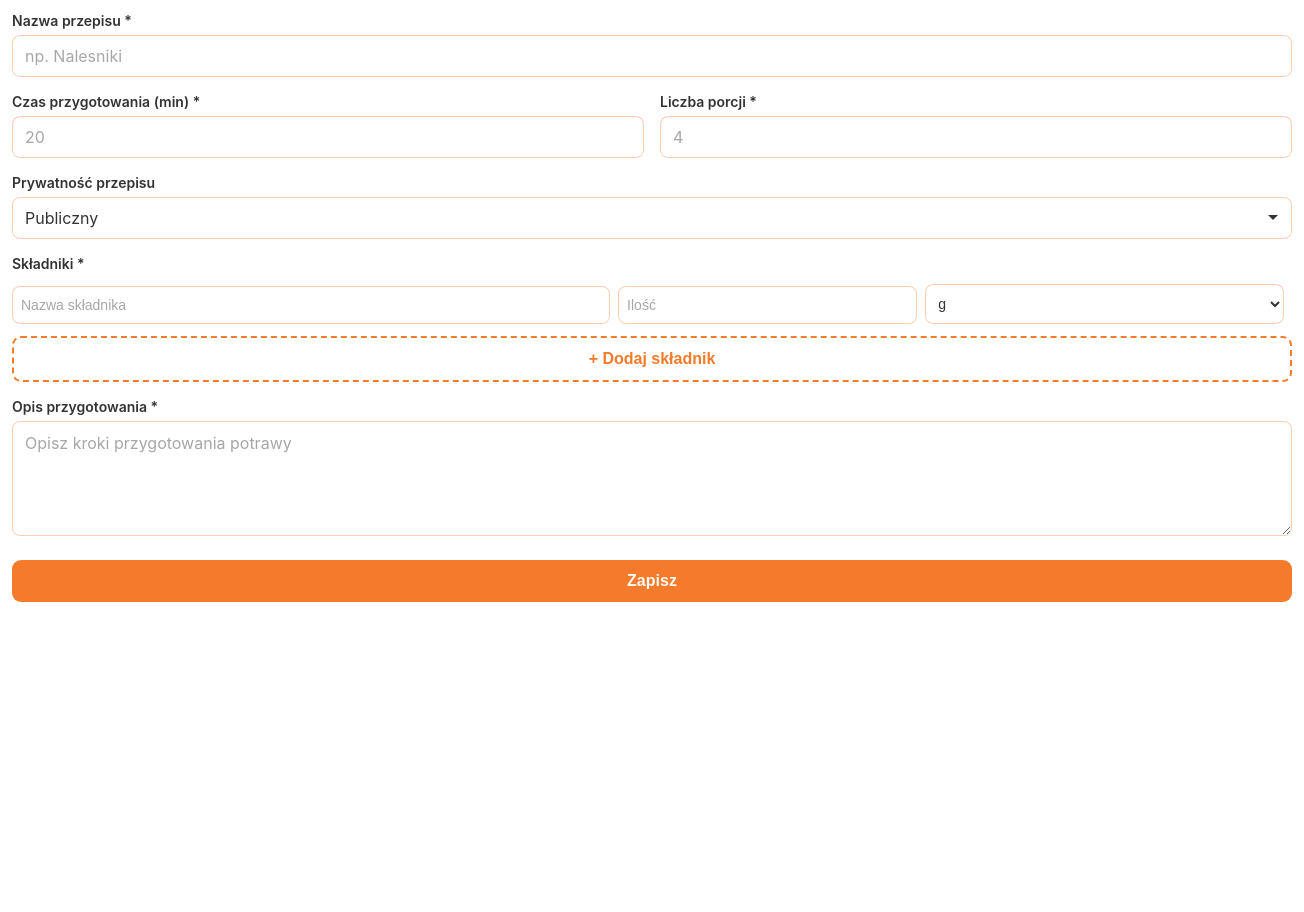
Test: RecipeForm › shows duplicate ingredient error when two ingredients share the same name
The width and height of the screenshot is (1304, 912).
Type "Zupa" into the field labelled "Nazwa przepisu *". click: (652, 56)
box: [12,35,1292,77]
Type "Opis przygotowania." into the text box labelled "Opis przygotowania *". click: (652, 478)
box: [12,421,1292,536]
Type "30" into the number field labelled "Czas przygotowania (min) *". click: (328, 137)
box: [12,116,644,158]
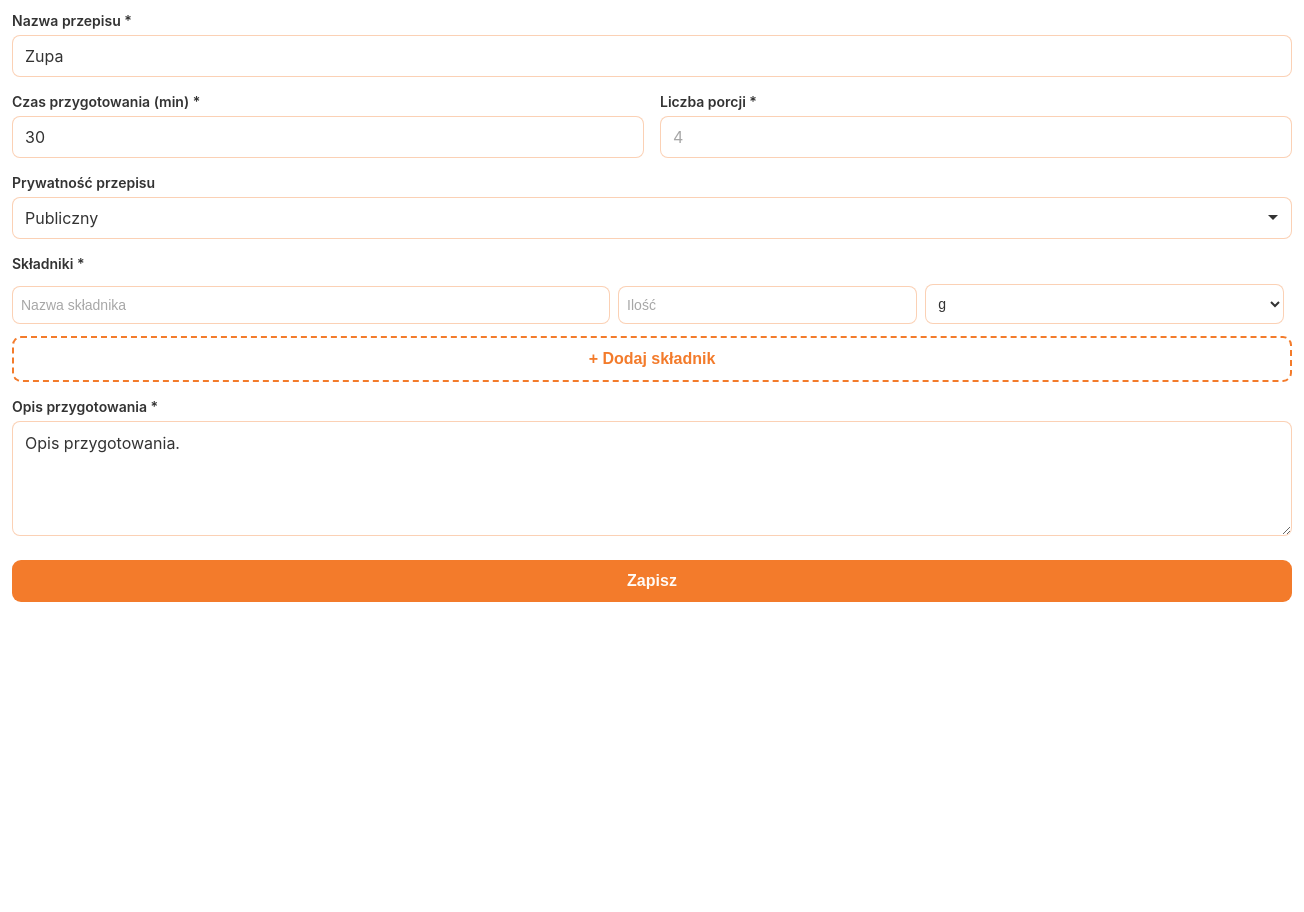
Type "2" into the number field labelled "Liczba porcji *". click: (976, 137)
box: [660,116,1292,158]
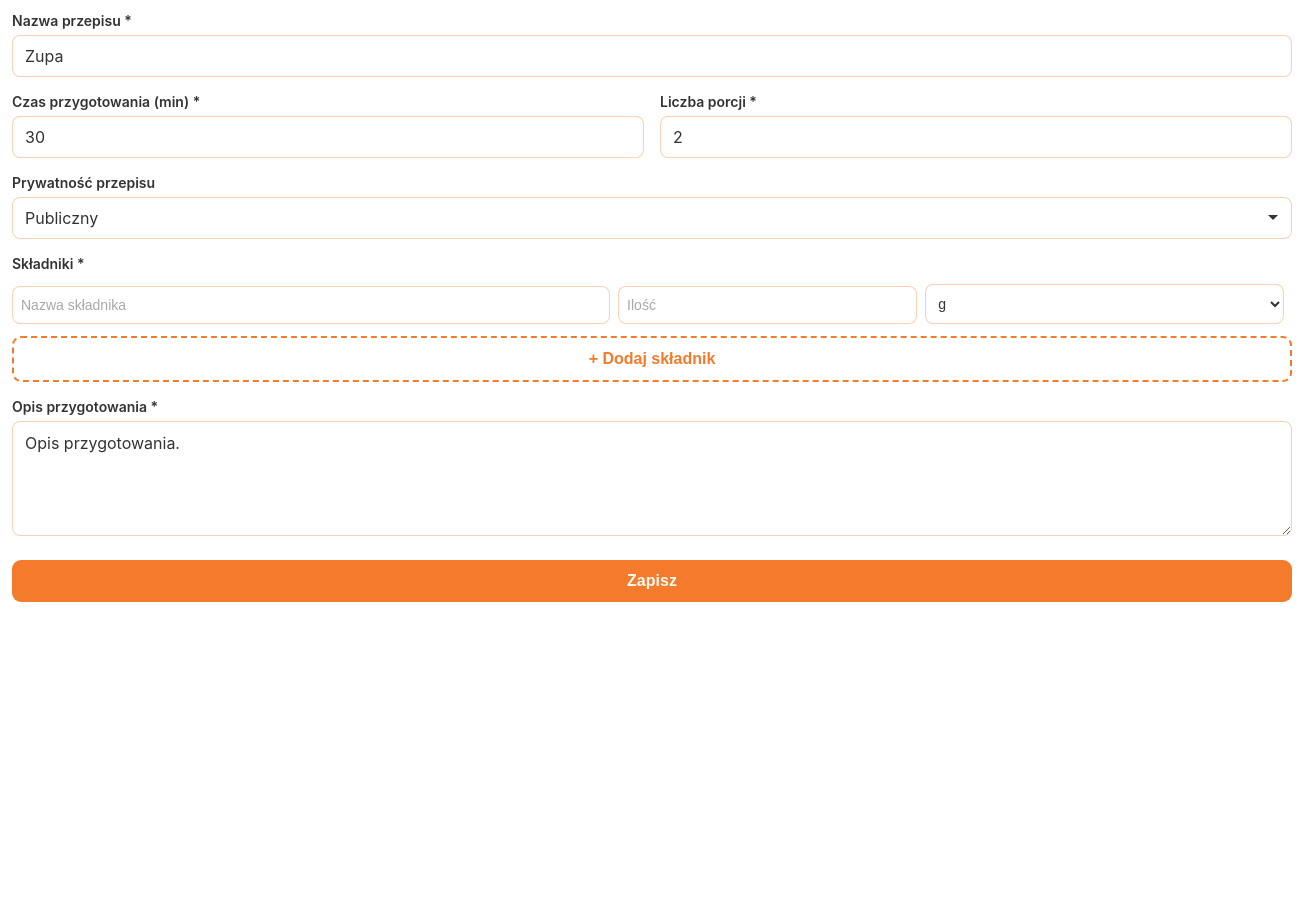
Type "Sol" into the dropdown with placeholder "Nazwa składnika". click: (311, 305)
box: [12,286,610,324]
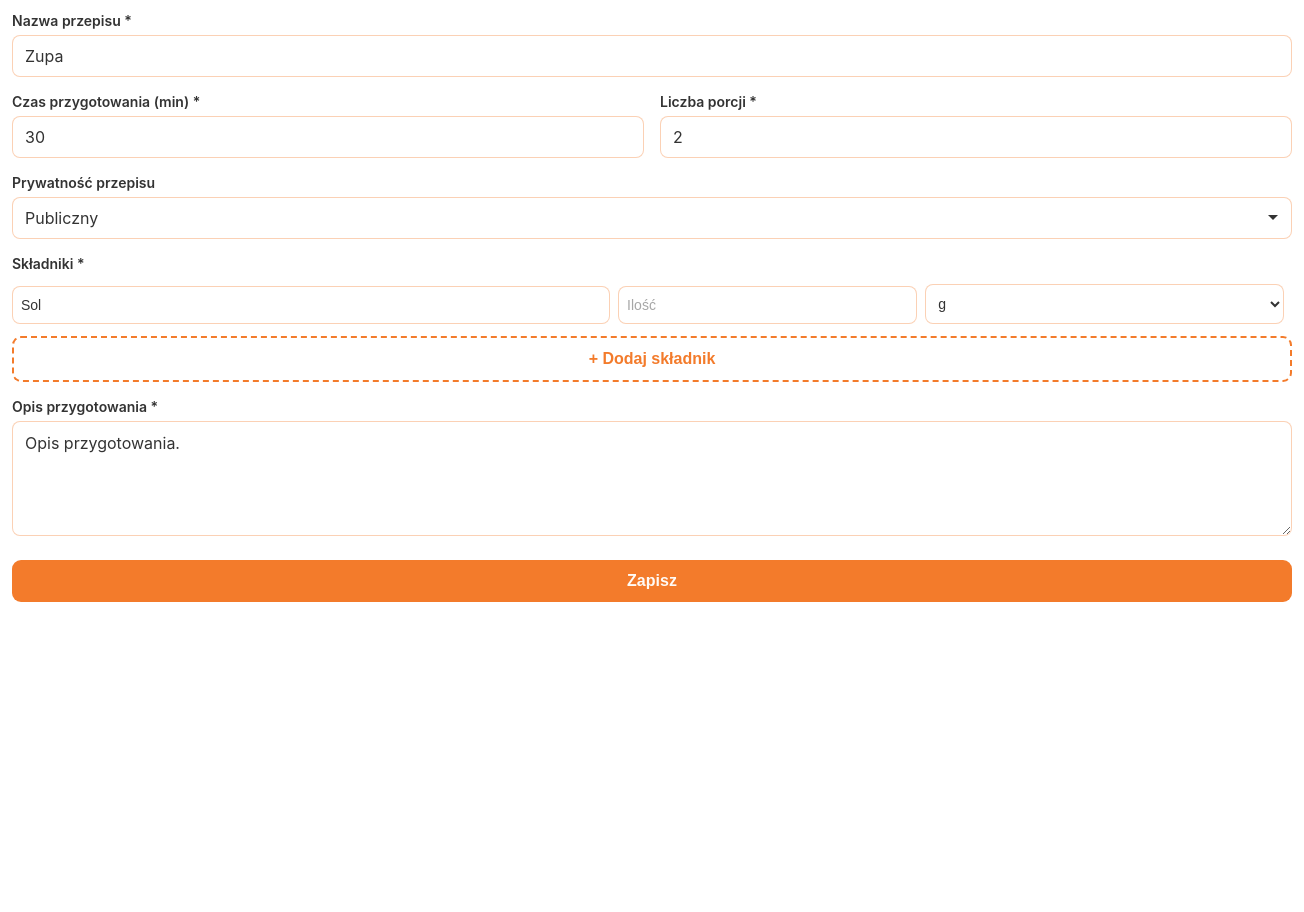
Click the button "+ Dodaj składnik". click: (652, 359)
box: [12,336,1292,382]
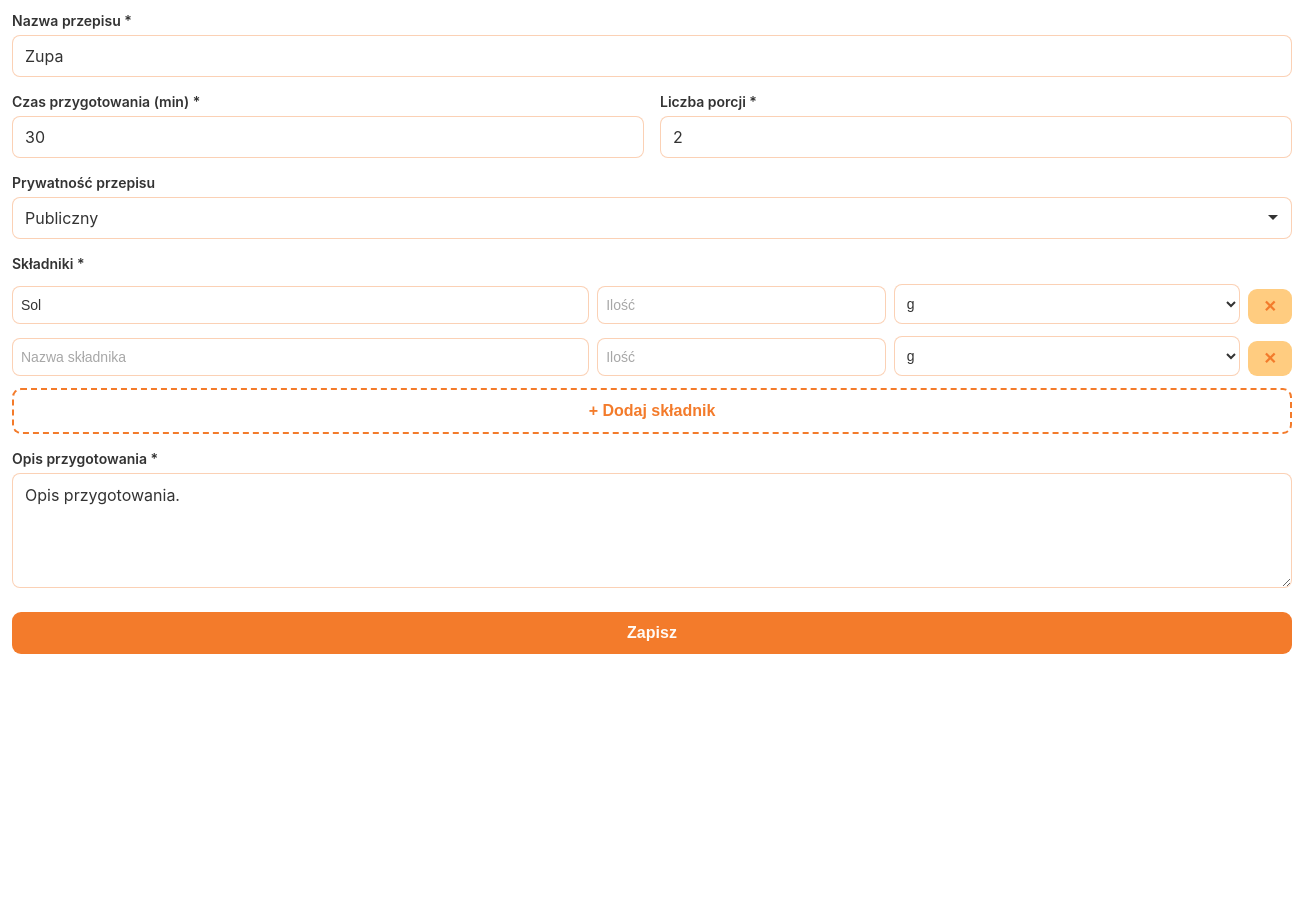
Type "Sol" into the dropdown with placeholder "Nazwa składnika". click: (301, 357)
box: [12,338,589,376]
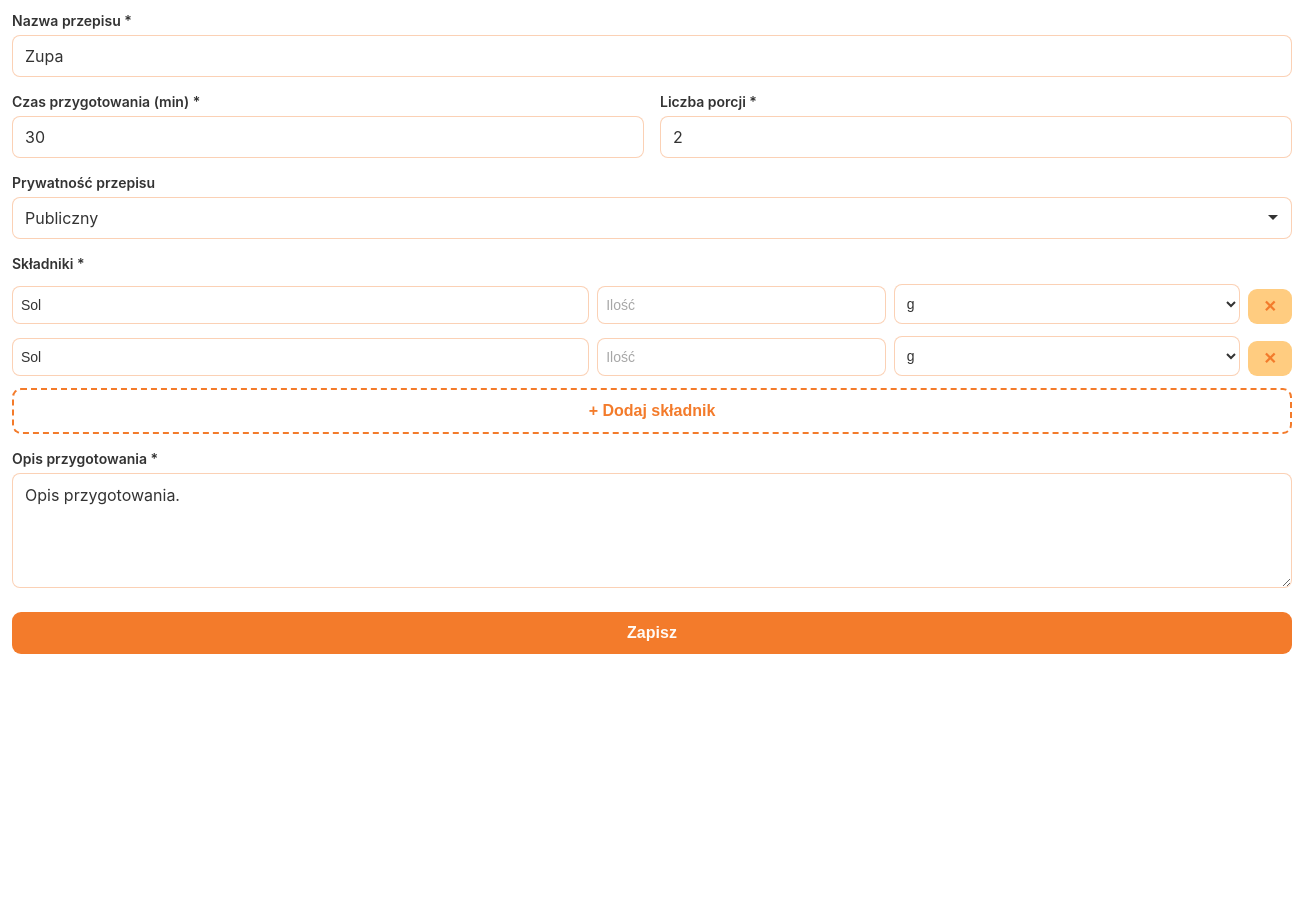
Click the button "Zapisz". click: (652, 633)
box: [12,612,1292,654]
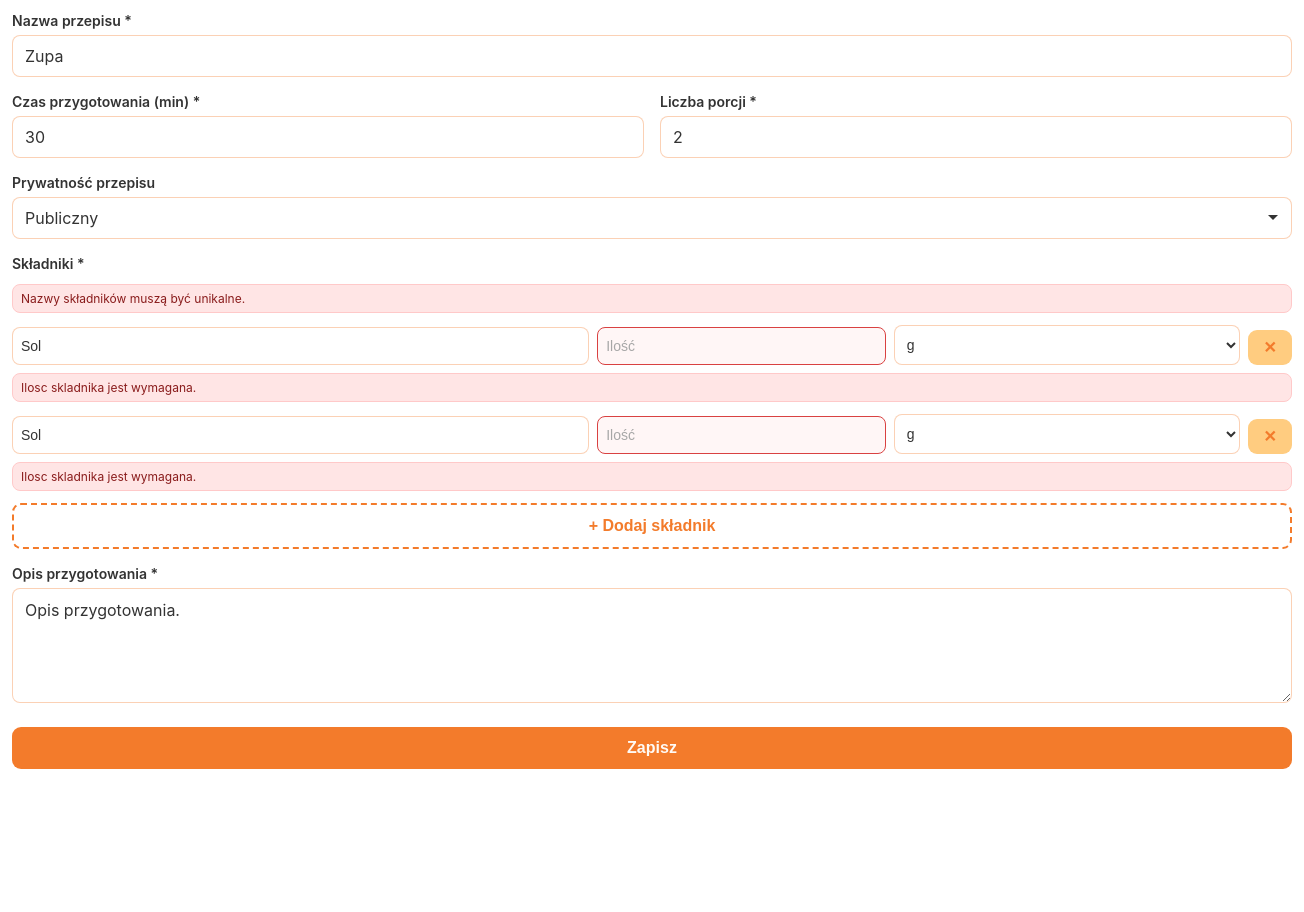
Check: the text "Nazwy składników muszą być unikalne." is shown, box [12,284,1292,313]
